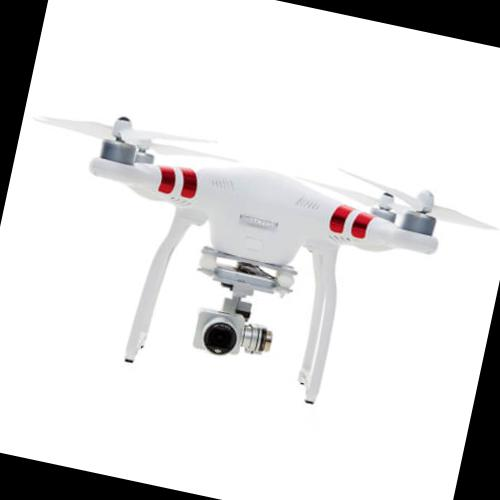drone: (0, 73, 500, 369)
